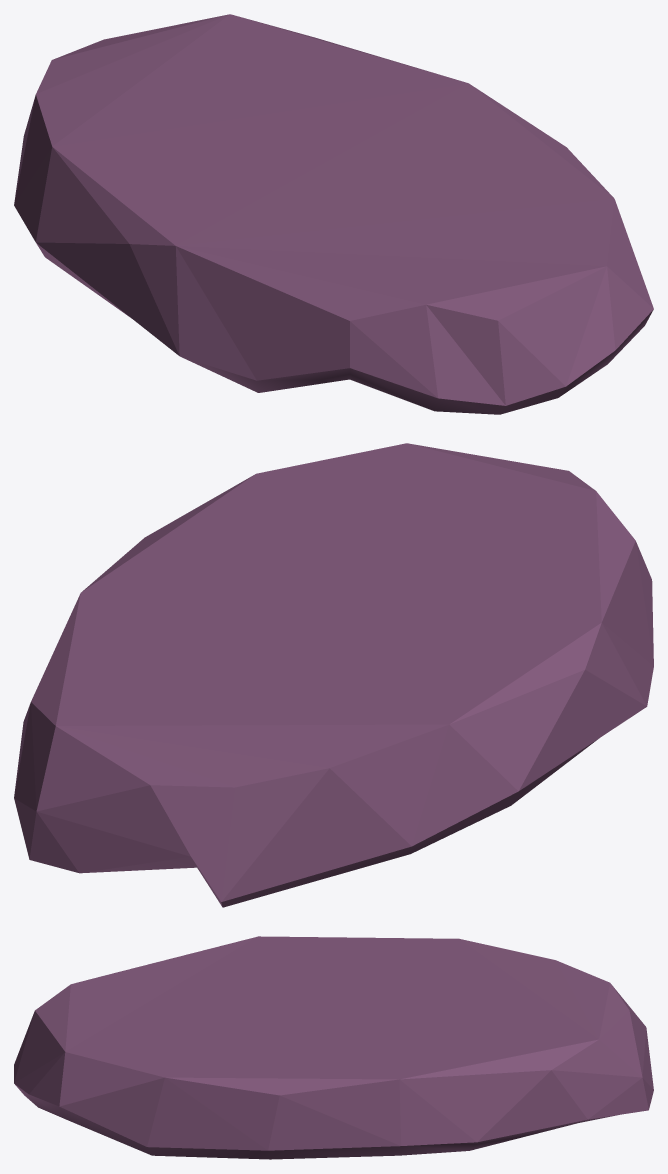
File: 3thirdIsland-upper.obj
3 renders of one model, top to bottom at view 1: azimuth 30°, elevation 25°; view 2: azimuth 150°, elevation 25°; view 3: azimuth 270°, elevation 25°, orthographic. The views are drawn at different scales.
Parts seen in each view (by area): view 1: Mechanic_island.002; view 2: Mechanic_island.002; view 3: Mechanic_island.002.
Boxes of the visible parts, x1,y1,x2,y2 form: Mechanic_island.002: (14,14,653,414); Mechanic_island.002: (14,443,653,907); Mechanic_island.002: (14,936,653,1159).
Bounding box in the file's own units: 106 × 24.51 × 170.
